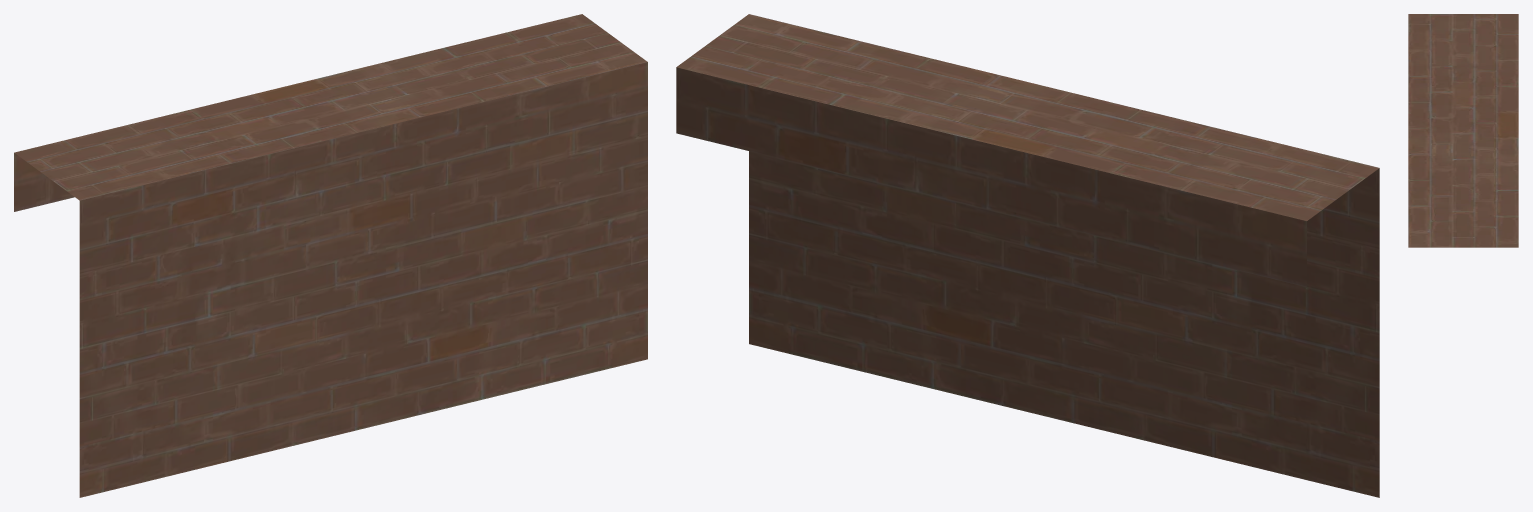
The model's file is Cornice_Brick_Center.glb.
3 views of the same model, side by side, from view 1: azimuth 30°, elevation 25°; view 2: azimuth 150°, elevation 25°; view 3: azimuth 270°, elevation 25° (orthographic). The views are drawn at different scales.
Parts seen in each view (by area): view 1: Cornice_Brick_Center; view 2: Cornice_Brick_Center; view 3: Cornice_Brick_Center.
Boxes of the visible parts, left/top/right/bottom form: Cornice_Brick_Center: left=14, top=14, right=647, bottom=497; Cornice_Brick_Center: left=676, top=14, right=1379, bottom=497; Cornice_Brick_Center: left=1408, top=14, right=1518, bottom=247.
Bounding box in the file's own units: 2 × 1 × 0.4.
1 material, 1 textured.
